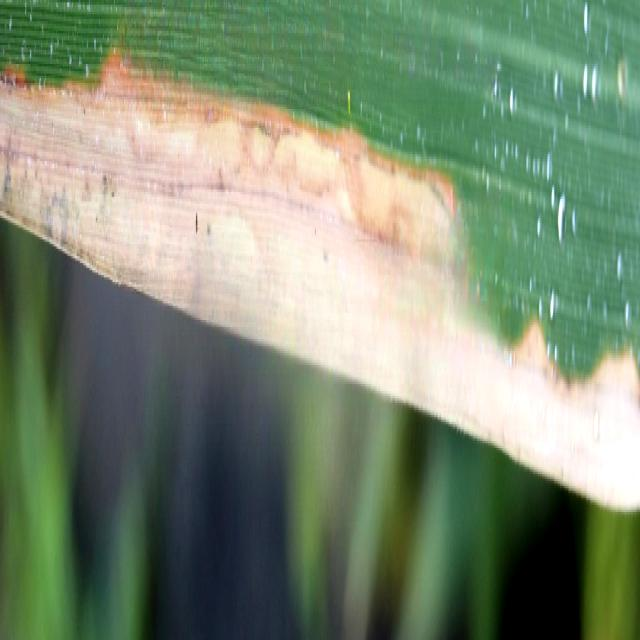BLB: (0, 43, 639, 508)
